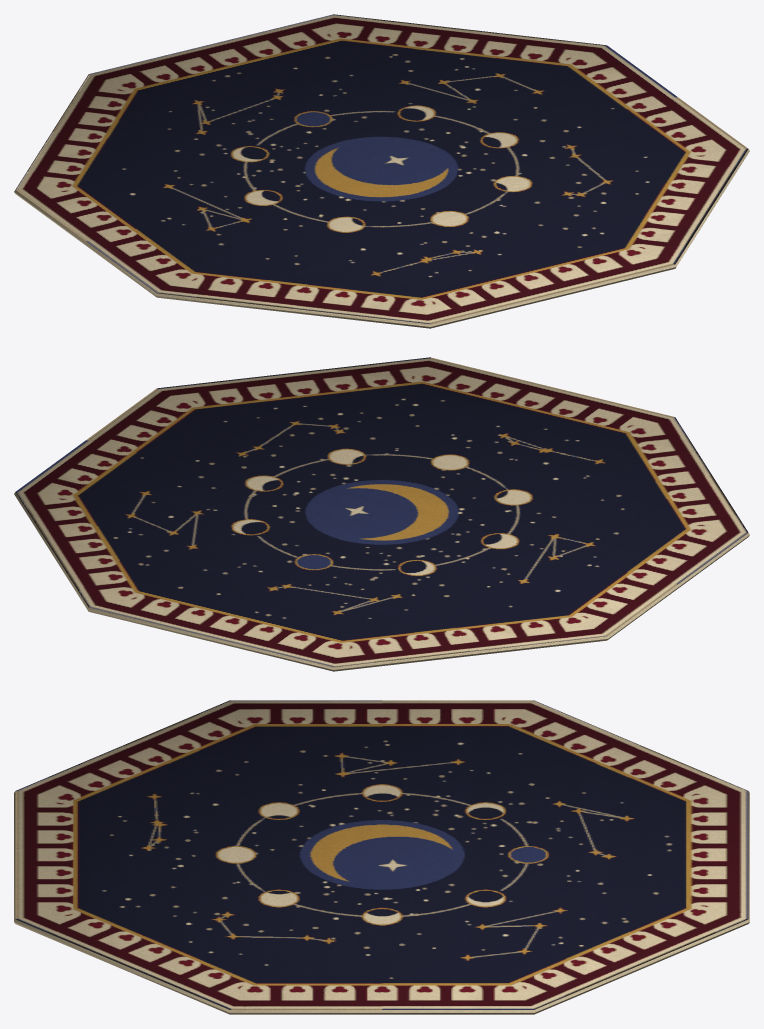
File: StarChartRug.fbx
3 renders of one model, top to bottom at view 1: azimuth 30°, elevation 25°; view 2: azimuth 150°, elevation 25°; view 3: azimuth 270°, elevation 25°, orthographic. The views are drawn at different scales.
Parts seen in each view (by area): view 1: StarChartRug; view 2: StarChartRug; view 3: StarChartRug.
Part boxes in pixels (x1,y1,x2,y2): StarChartRug: (14,14,749,328); StarChartRug: (14,357,749,671); StarChartRug: (14,700,749,1014).
Size of the model in its own units: 806 by 6 by 806.
